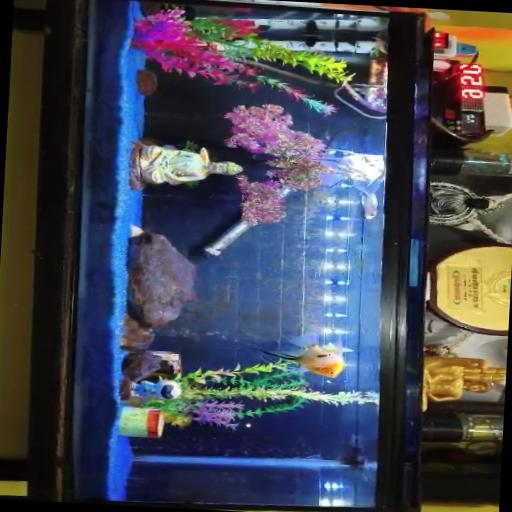Fish: (320, 147, 384, 218), (257, 333, 344, 376)
